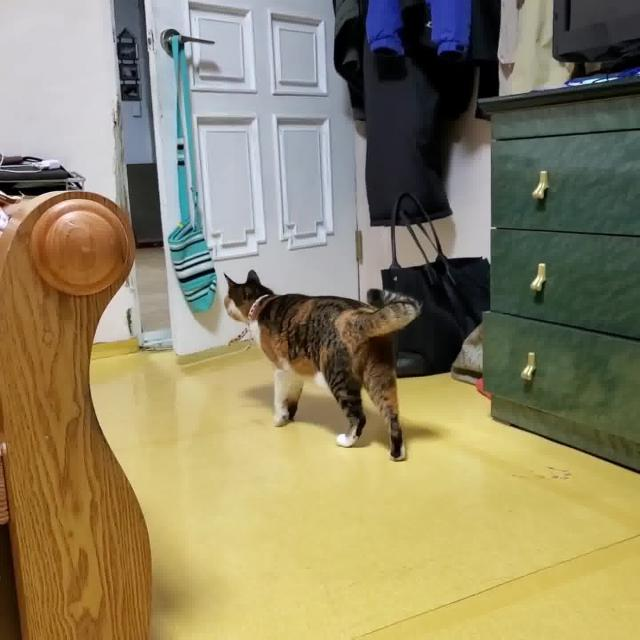cat: (222, 267, 420, 465)
